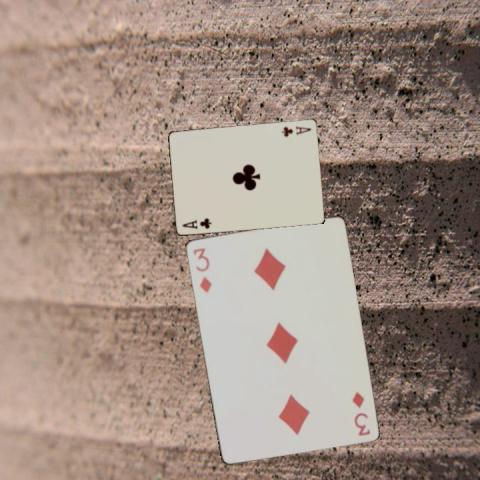3d: (189, 244, 213, 294), (349, 389, 371, 437)
Ac: (179, 215, 213, 230), (278, 123, 312, 137)
